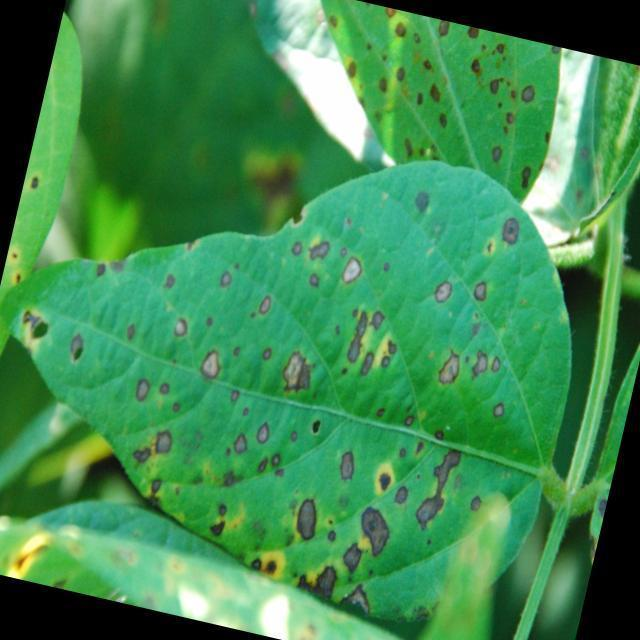Septoria: (52, 361, 492, 636), (154, 154, 536, 443), (314, 0, 568, 196)
